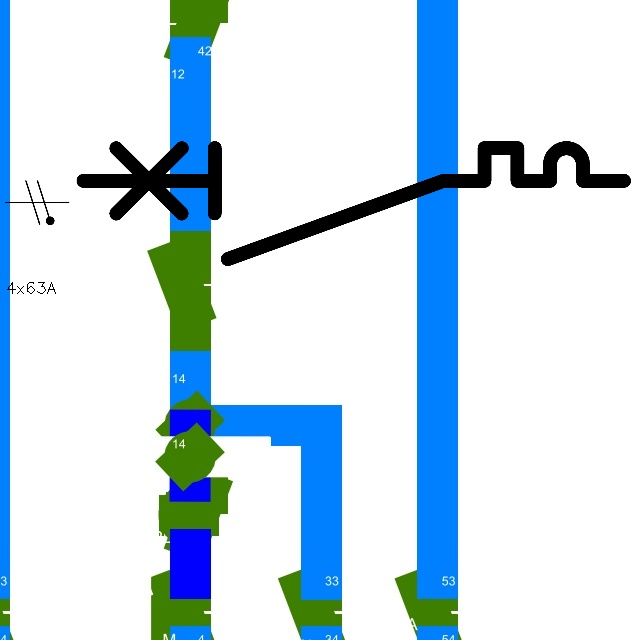interruptor_termomagnetico: (69, 134, 638, 273)
